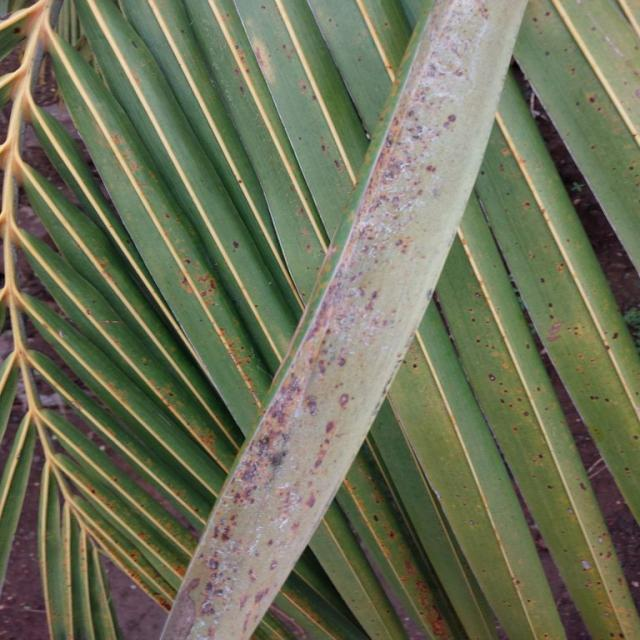gray leaf spot: (163, 0, 535, 640)
